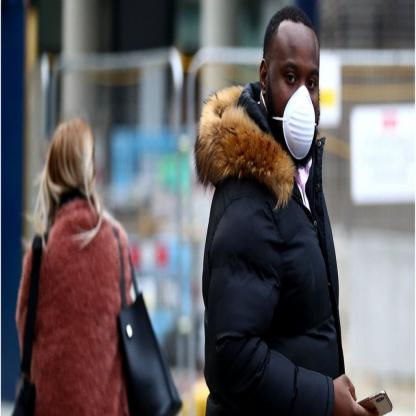Wearing_Mask: (262, 25, 327, 174)
